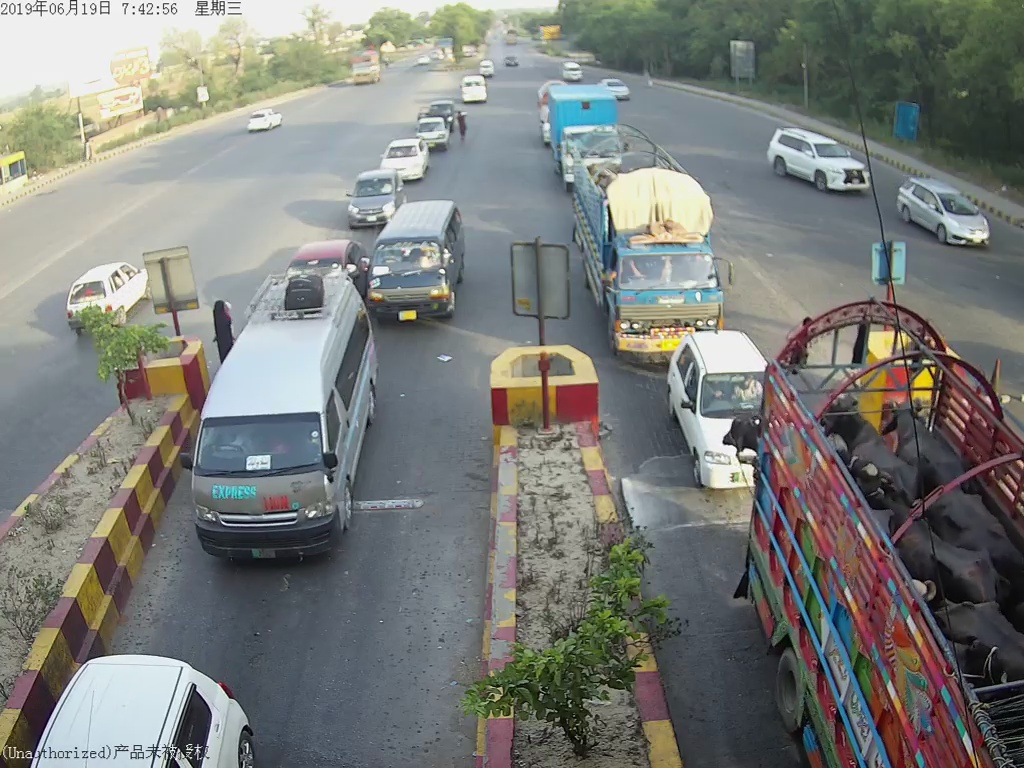Cat-1: (672, 331, 760, 507), (346, 175, 397, 227)
Cat-2: (195, 261, 389, 561)
Cat-4: (580, 146, 738, 331)
